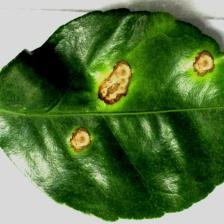canker: (46, 34, 221, 166)
